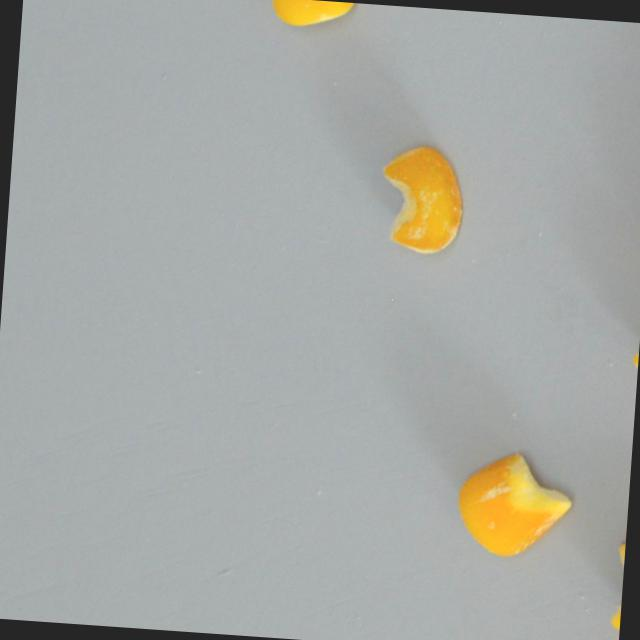no_canjicado: (605, 529, 626, 640)
no_desgerminado: (255, 0, 355, 31)
pelicula: (452, 447, 573, 560), (374, 142, 465, 255)
